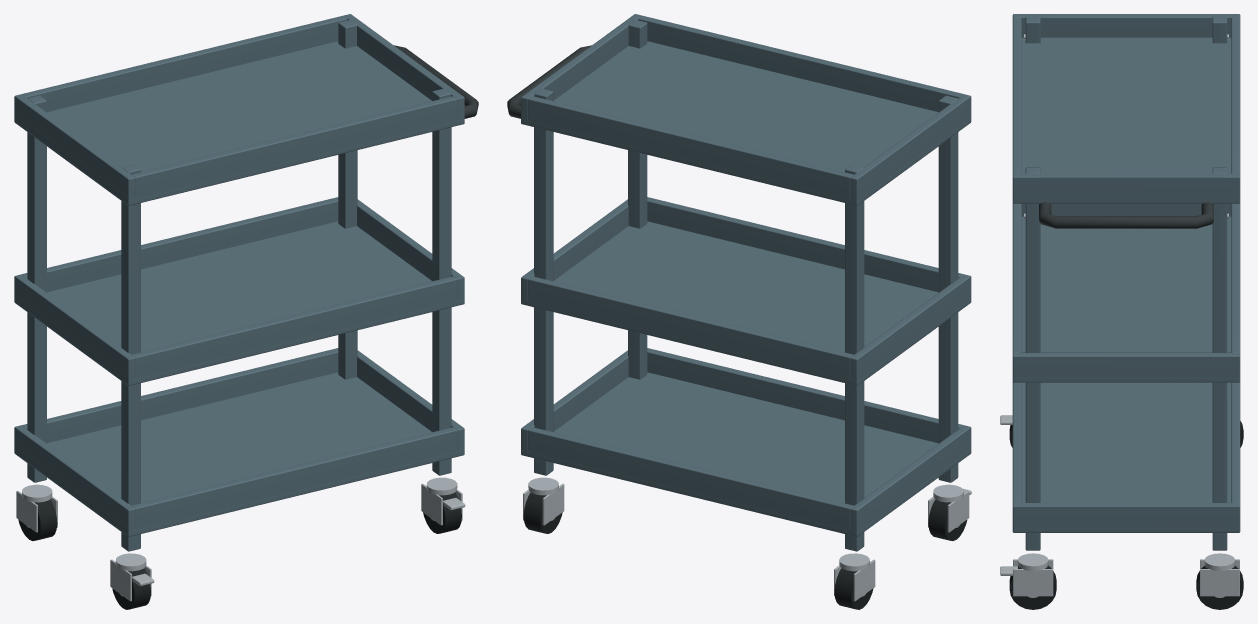
File: garage-service-cart.glb
3 views of the same model, side by side, from view 1: azimuth 30°, elevation 25°; view 2: azimuth 150°, elevation 25°; view 3: azimuth 270°, elevation 25° (orthographic).
Visible parts, largest first — view 1: catalog_surface_RealismUV; view 2: catalog_surface_RealismUV; view 3: catalog_surface_RealismUV.
Part boxes in pixels (x1,y1,x2,y2): catalog_surface_RealismUV: (14, 14, 478, 609); catalog_surface_RealismUV: (507, 14, 971, 609); catalog_surface_RealismUV: (1000, 14, 1243, 609).
Size of the model in its own units: 0.8 by 0.9 by 0.455.
